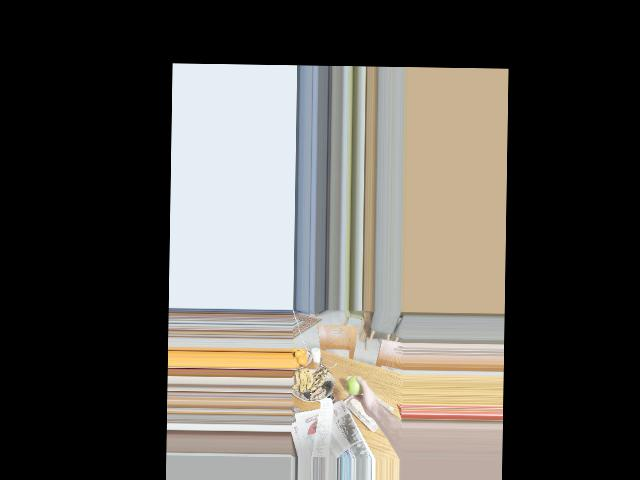apple: (345, 374, 366, 398)
